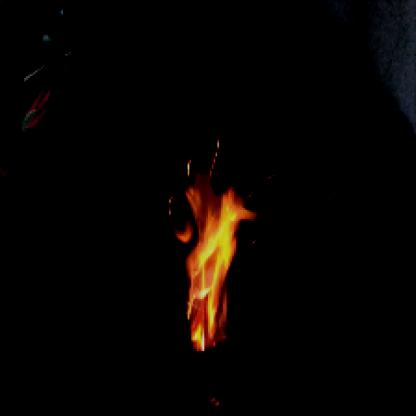Fire: (166, 158, 256, 355)
